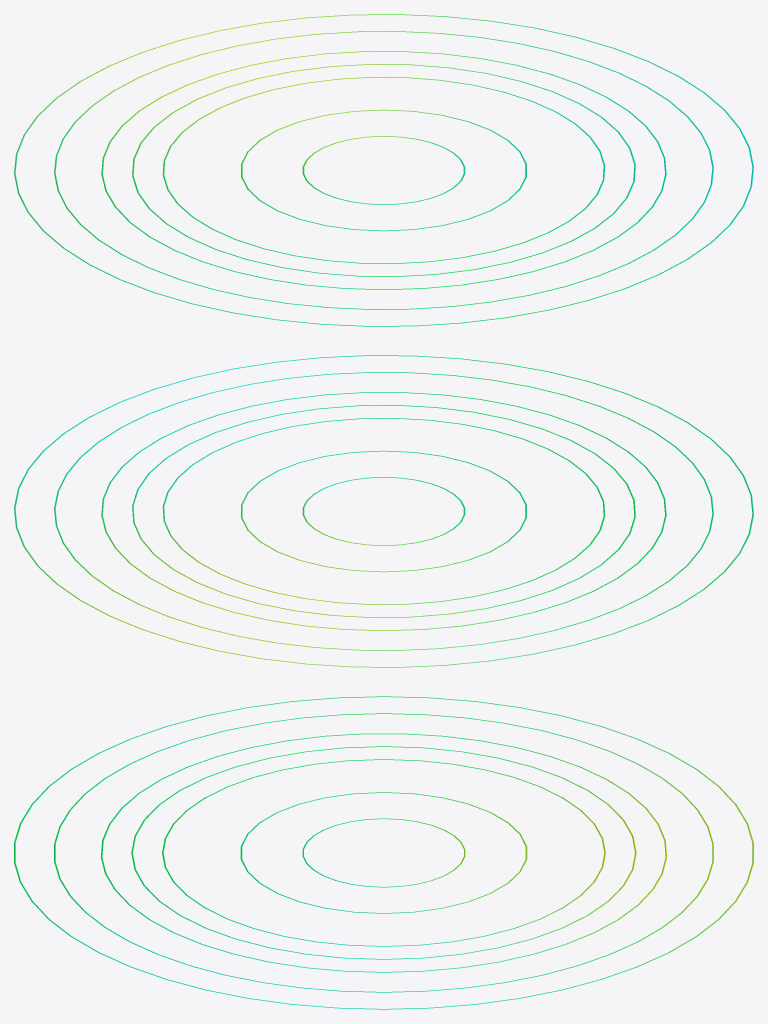
The model's file is orbits_mesh.fbx.
3 renders of one model, top to bottom at view 1: azimuth 30°, elevation 25°; view 2: azimuth 150°, elevation 25°; view 3: azimuth 270°, elevation 25°, orthographic.
Visible parts, largest first — view 1: attribblur7; view 2: attribblur7; view 3: attribblur7.
Boxes of the visible parts, left/top/right/bottom form: attribblur7: left=14, top=14, right=753, bottom=326; attribblur7: left=14, top=355, right=753, bottom=667; attribblur7: left=14, top=696, right=753, bottom=1009.
Size of the model in its own units: 0.942 by 0.0008 by 0.9401.
